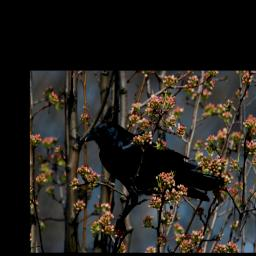Crow: (79, 118, 222, 230)
